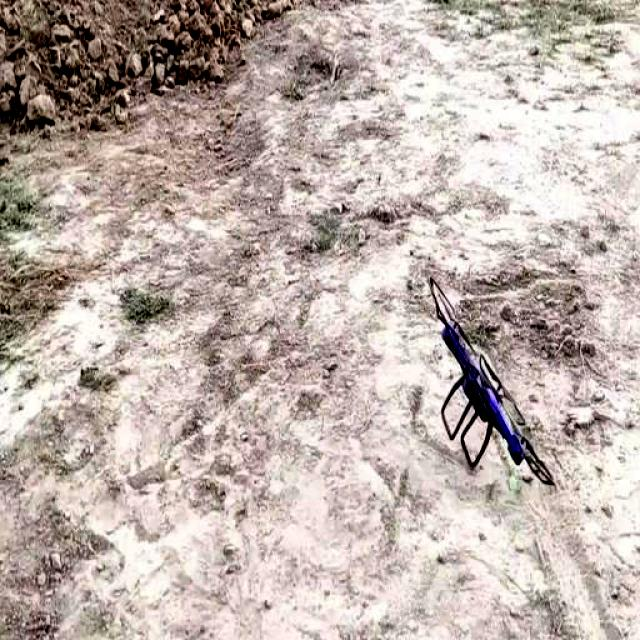bird: (412, 250, 574, 516)
